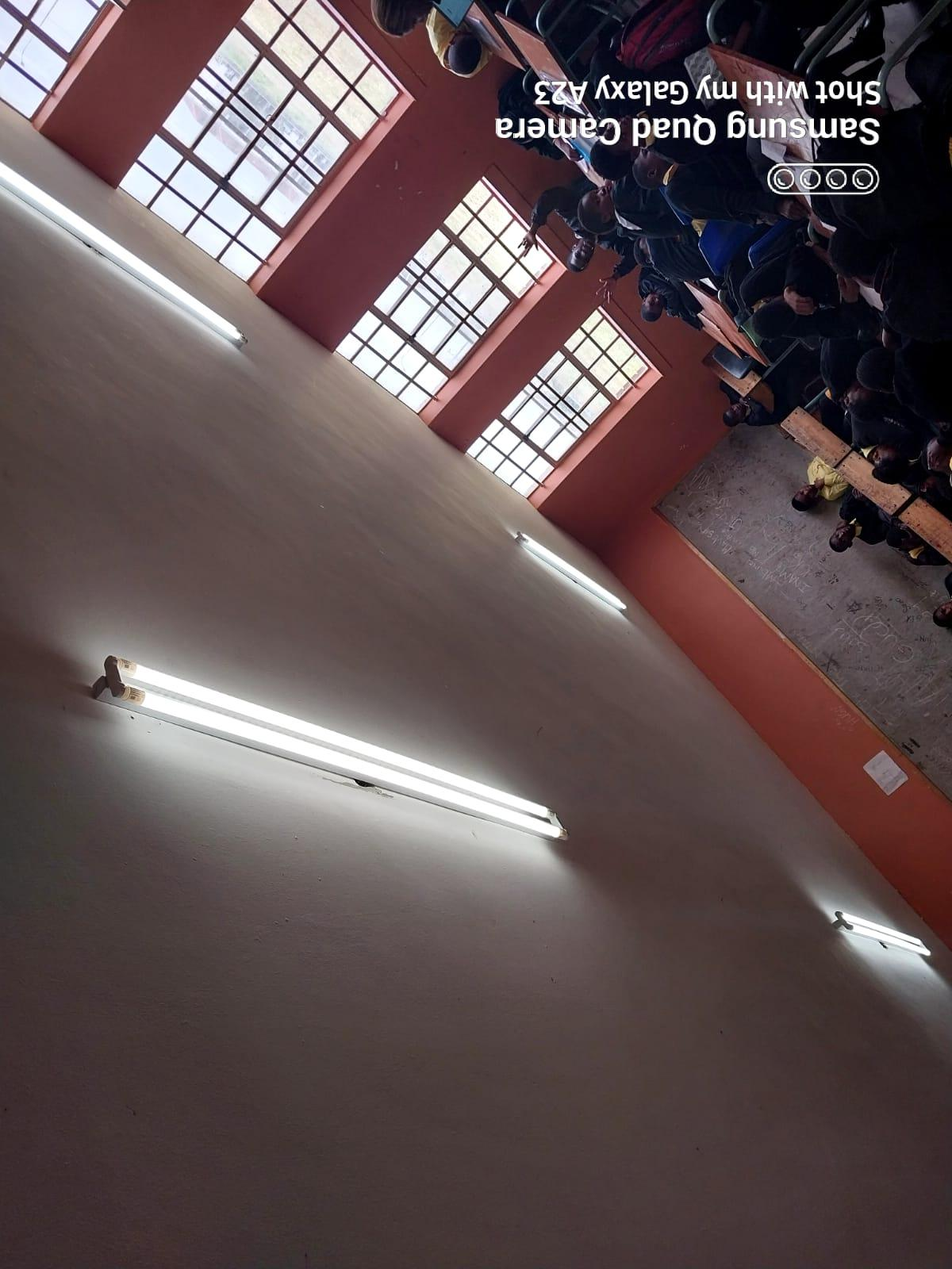light: (102, 655, 569, 842), (832, 910, 931, 957)
